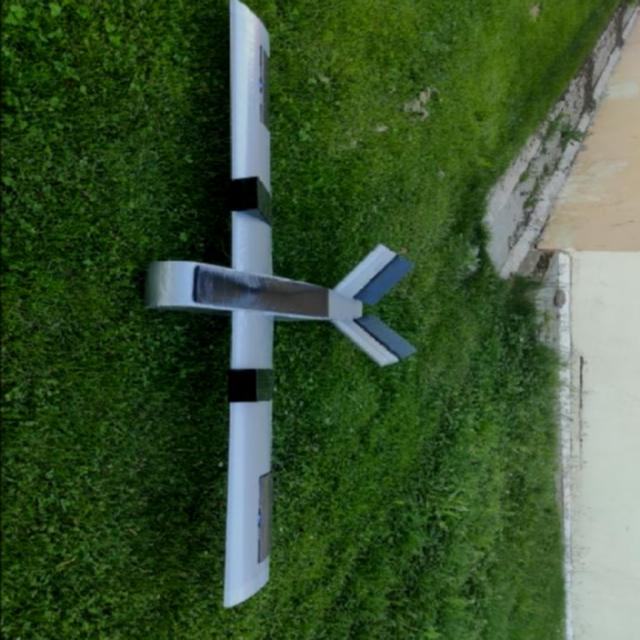plane: (142, 0, 418, 609)
